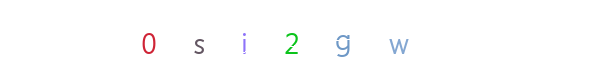0: (108, 0, 188, 80)
2: (252, 0, 332, 80)
G: (255, 0, 335, 80)
I: (249, 0, 329, 80)
S: (159, 0, 239, 80)
W: (305, 0, 385, 80)
